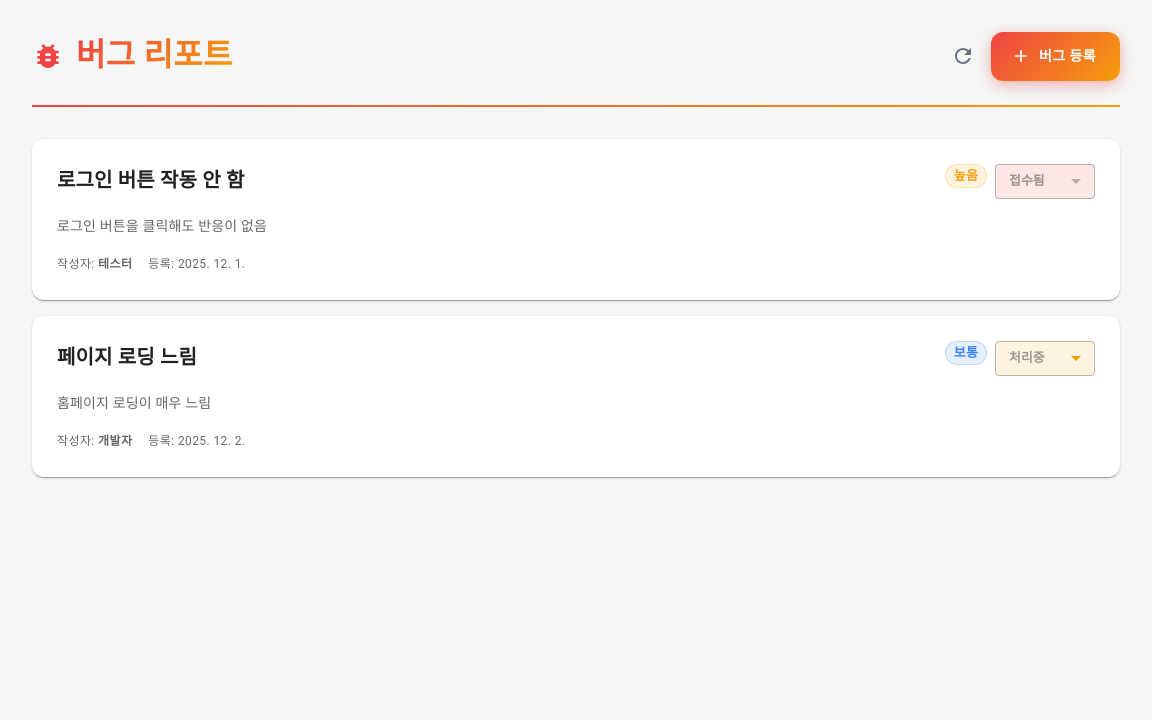
BugReportPage › 버그 등록 다이얼로그 › should require all fields for bug submission
This screenshot has width=1152, height=720.
Click the button "버그 등록" at (1056, 56), box 991,32 -> 1120,80
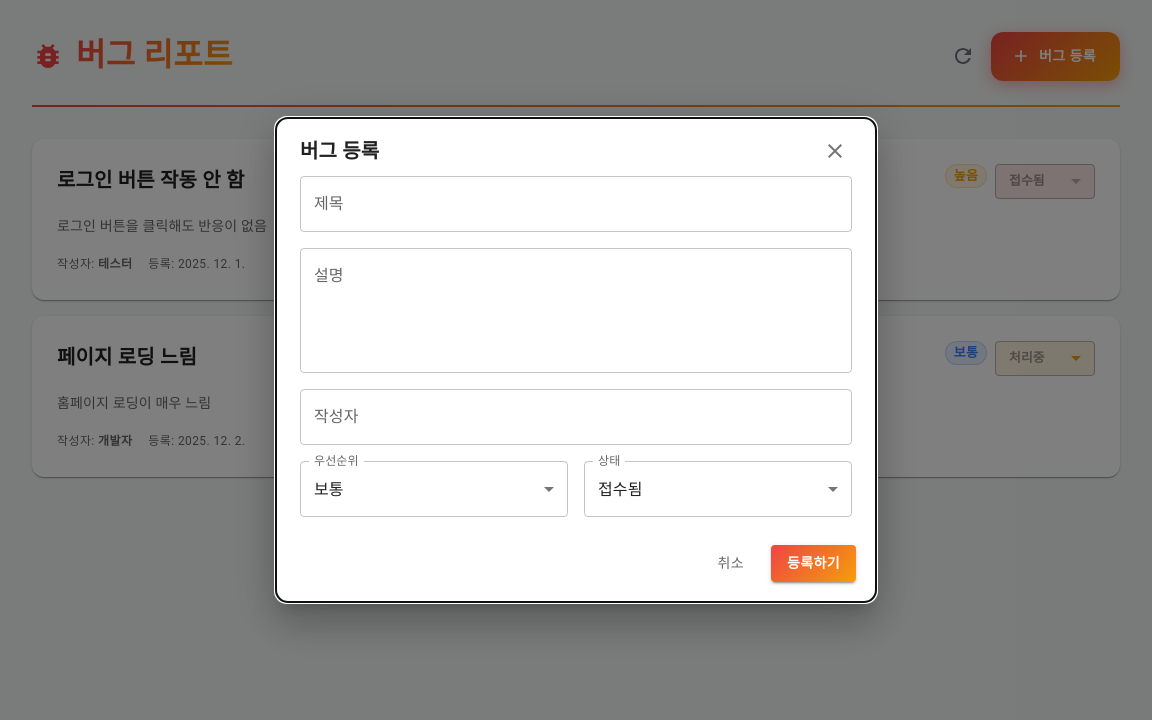
Click the button "등록하기" at (813, 564), box 771,545 -> 856,582
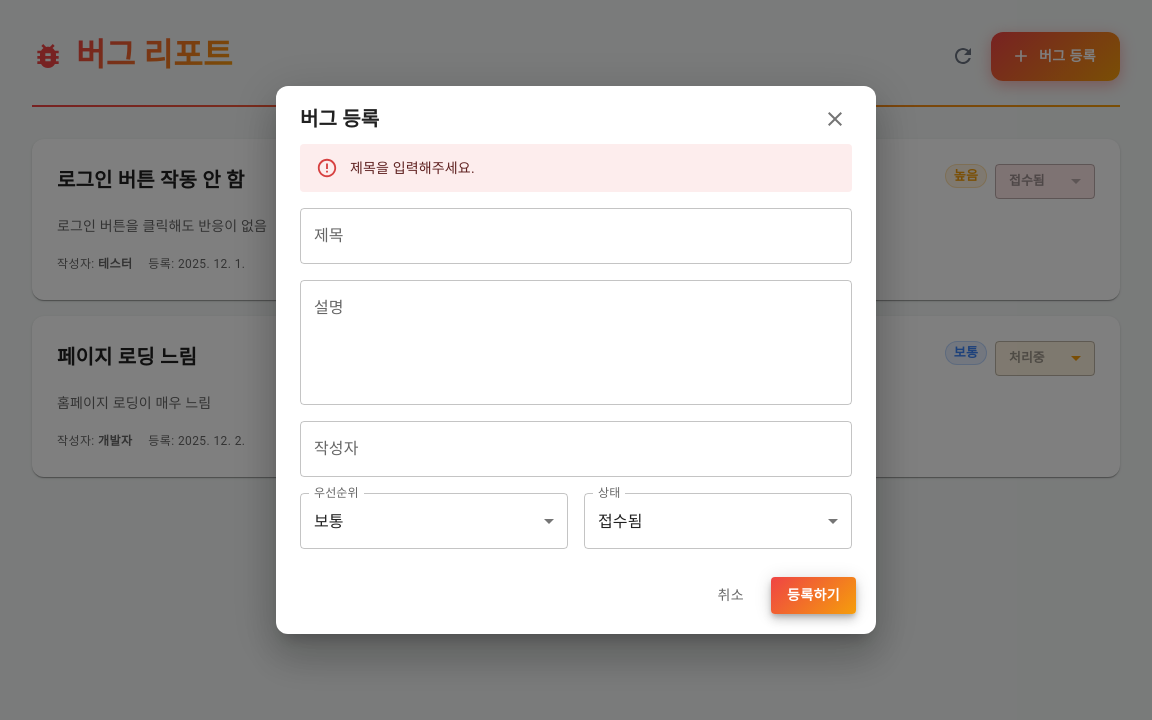
Check: the text "제목을 입력해주세요." is shown, box 350,160 -> 475,176
